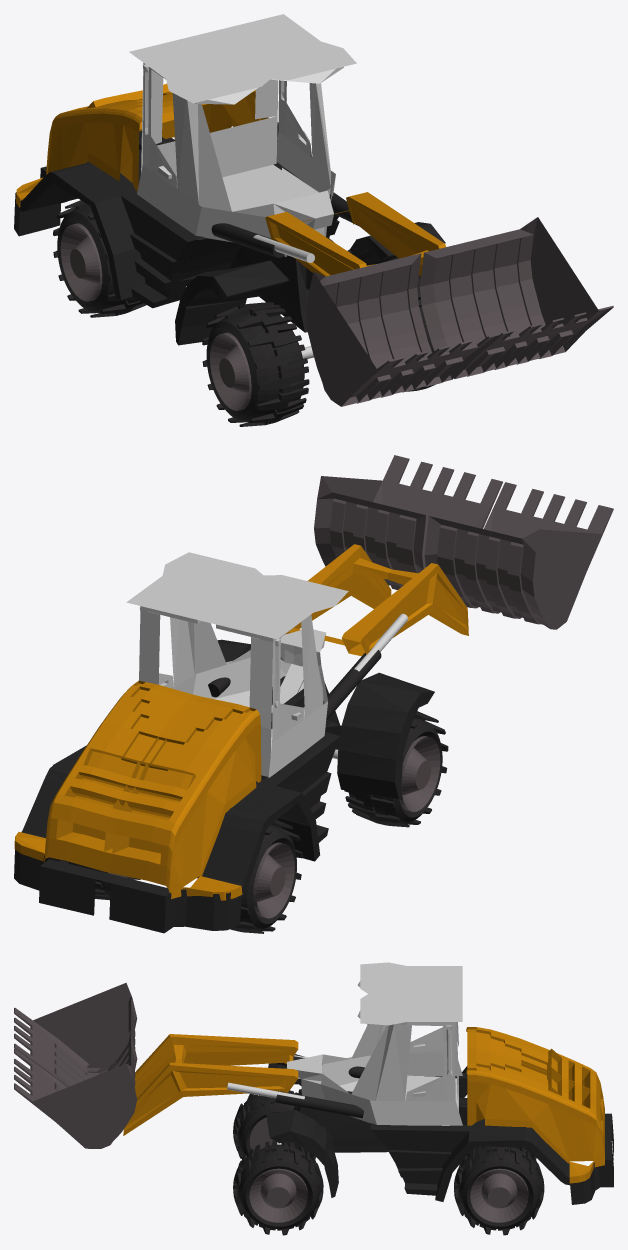
The model's file is LIEBHERRL538LiftPistons.dae.
The picture shows the model from 3 angles, top to bottom: view 1: azimuth 30°, elevation 25°; view 2: azimuth 150°, elevation 25°; view 3: azimuth 270°, elevation 25°; orthographic projection. The views are drawn at different scales.
Visible parts, largest first — view 1: loaderBucket, Cab, Chassis, BackHood, rightTopTire, LoaderLiftArm, rightBackTire, backLeftRim_001, backLeftRim, RightliftPistonRod; view 2: BackHood, Chassis, loaderBucket, Cab, LoaderLiftArm, rightTopTire, backLeftRim_001, backLeftRim, rightBackTire, RightliftPistonRod; view 3: Cab, loaderBucket, Chassis, BackHood, LoaderLiftArm, leftTopTire, leftBackTire, rightLeftRim, backLeftRim_002, rightTopTire, LeftliftPistonRod, LeftliftPistonHouse (+1 smaller).
Part boxes in pixels (<box>): loaderBucket: <box>306,217,613,406</box>; Cab: <box>129,14,356,257</box>; Chassis: <box>14,122,445,345</box>; BackHood: <box>15,83,268,207</box>; rightTopTire: <box>202,302,309,426</box>; LoaderLiftArm: <box>265,192,445,276</box>; rightBackTire: <box>53,200,146,317</box>; backLeftRim_001: <box>60,223,102,301</box>; backLeftRim: <box>210,332,251,410</box>; RightliftPistonRod: <box>211,223,284,257</box>; BackHood: <box>14,680,261,900</box>; Chassis: <box>14,639,434,933</box>; loaderBucket: <box>314,455,613,629</box>; Cab: <box>126,552,348,777</box>; LoaderLiftArm: <box>285,544,468,656</box>; rightTopTire: <box>344,711,448,827</box>; backLeftRim_001: <box>253,842,294,918</box>; backLeftRim: <box>399,736,440,811</box>; rightBackTire: <box>230,820,302,933</box>; RightliftPistonRod: <box>323,650,381,720</box>; Cab: <box>287,962,462,1125</box>; loaderBucket: <box>14,982,137,1148</box>; Chassis: <box>266,1054,613,1204</box>; BackHood: <box>466,1027,604,1183</box>; LoaderLiftArm: <box>123,1034,298,1135</box>; leftTopTire: <box>233,1140,323,1235</box>; leftBackTire: <box>454,1146,544,1235</box>; rightLeftRim: <box>249,1168,307,1222</box>; backLeftRim_002: <box>470,1168,528,1222</box>; rightTopTire: <box>233,1089,315,1159</box>; LeftliftPistonRod: <box>275,1091,363,1118</box>; LeftliftPistonHouse: <box>227,1082,304,1099</box>.
Size of the model in its own units: 6.92 by 20.55 by 7.84.
